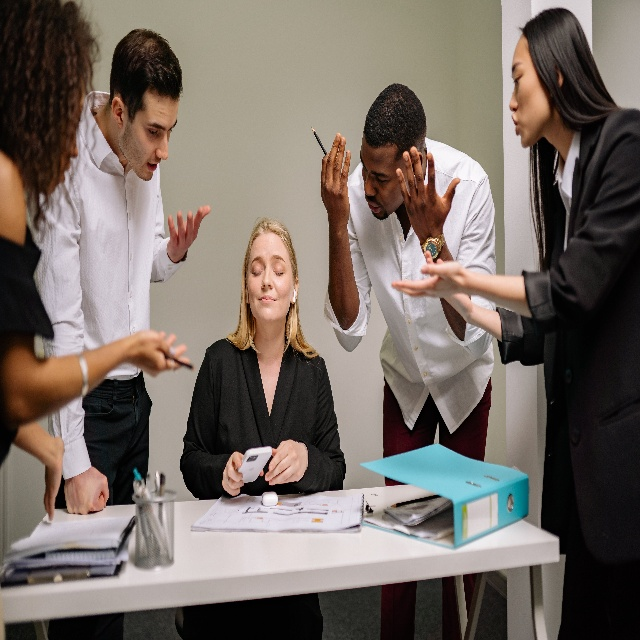Sin_guantes: (396, 147, 460, 244), (424, 251, 473, 318), (391, 261, 470, 298), (320, 132, 351, 226), (131, 329, 189, 379), (167, 205, 211, 263), (64, 465, 110, 516), (265, 439, 307, 485), (44, 435, 65, 521), (221, 451, 244, 496)
